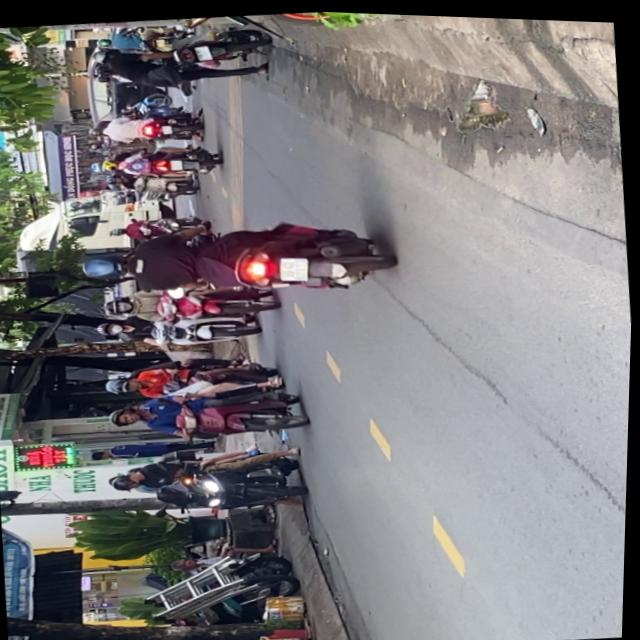helmet: (80, 249, 136, 282), (109, 405, 146, 428), (109, 469, 145, 492), (105, 374, 140, 394), (102, 296, 133, 316), (96, 319, 128, 336)
licenseplate: (75, 202, 396, 314), (105, 437, 311, 520), (106, 371, 312, 450), (104, 345, 284, 406), (97, 276, 280, 331), (96, 303, 264, 355)
nohelmet: (279, 253, 310, 279)
